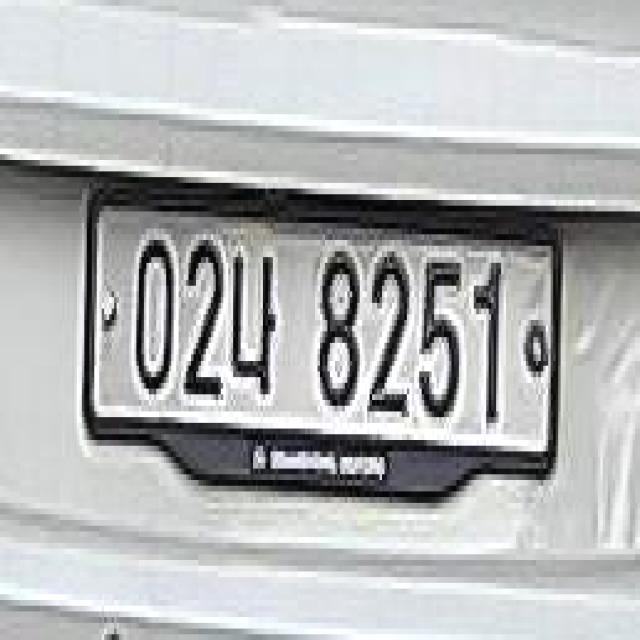illegal_plate: (81, 179, 563, 515)
